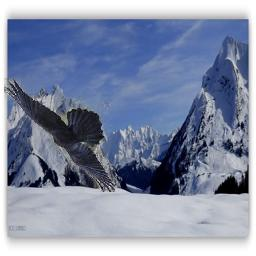Crow: (5, 78, 116, 192)
